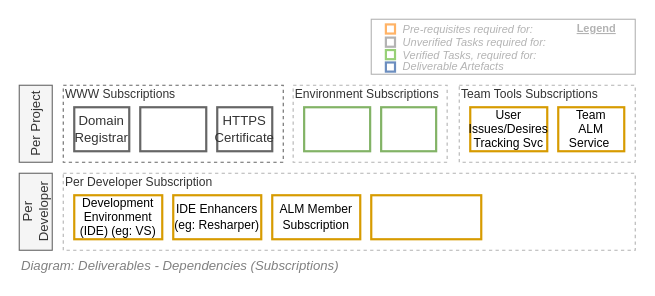
This 655x296 diagram has some shape labels left out. The shapes that lost their labels are listed below. From the top down, each one's centre as x and y in pixels, then its label:
At (x=173, y=129): "Domain Name.Svc (DNS)".
At (x=336, y=129): "Non-Prod Cloud Env".
At (x=408, y=129): "Prod Cloud Env".
At (x=426, y=217): "ALM Extenders (per project) (eg: Load Testers)".
